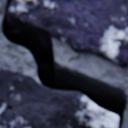brick: (8, 0, 127, 67), (0, 70, 118, 127)
crack: (1, 0, 127, 127), (2, 103, 10, 127), (120, 31, 125, 52)
